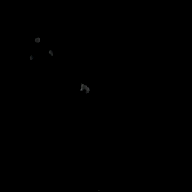v: (25, 33, 53, 60)
